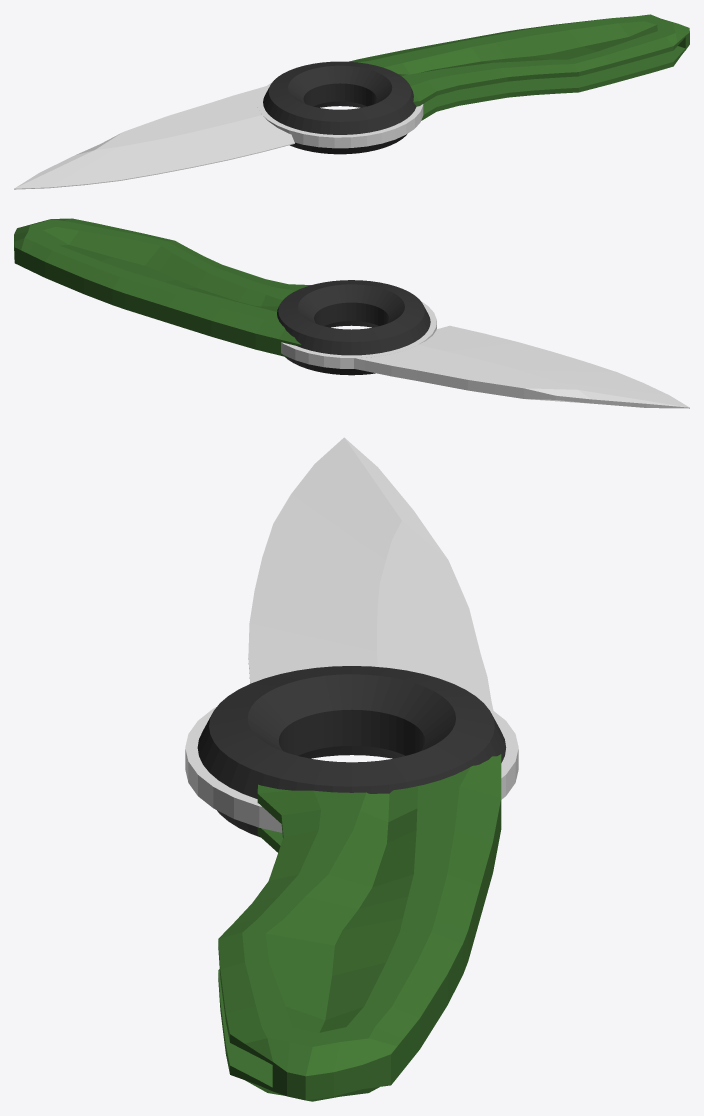
The model's file is knife_01.glb.
3 views of the same model, one above another, from view 1: azimuth 30°, elevation 25°; view 2: azimuth 150°, elevation 25°; view 3: azimuth 270°, elevation 25° (orthographic). The views are drawn at different scales.
Parts seen in each view (by area): view 1: handle, blade, handle_pivot, blade_pivot; view 2: handle, blade, handle_pivot, blade_pivot; view 3: handle, blade, handle_pivot, blade_pivot.
Boxes of the visible parts, x1=… form: handle: x1=349, y1=14, x2=689, y2=120; blade: x1=14, y1=86, x2=294, y2=189; handle_pivot: x1=263, y1=61, x2=416, y2=154; blade_pivot: x1=257, y1=82, x2=423, y2=148; handle: x1=14, y1=218, x2=311, y2=357; blade: x1=354, y1=325, x2=689, y2=408; handle_pivot: x1=277, y1=280, x2=430, y2=375; blade_pivot: x1=281, y1=301, x2=436, y2=368; handle: x1=218, y1=754, x2=501, y2=1101; blade: x1=248, y1=437, x2=493, y2=709; handle_pivot: x1=197, y1=666, x2=506, y2=837; blade_pivot: x1=185, y1=707, x2=518, y2=832.
Bounding box in the file's own units: 0.1844 × 0.0107 × 0.04.
